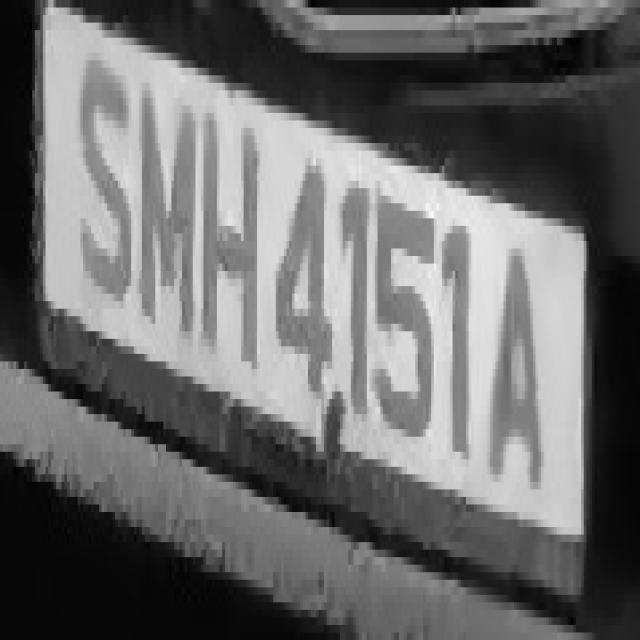1: (340, 158, 375, 467), (444, 180, 472, 520)
4: (270, 128, 335, 422)
5: (378, 166, 437, 467)
A: (479, 249, 549, 527)
H: (204, 75, 265, 399)
M: (134, 68, 201, 361)
S: (75, 30, 134, 324)
